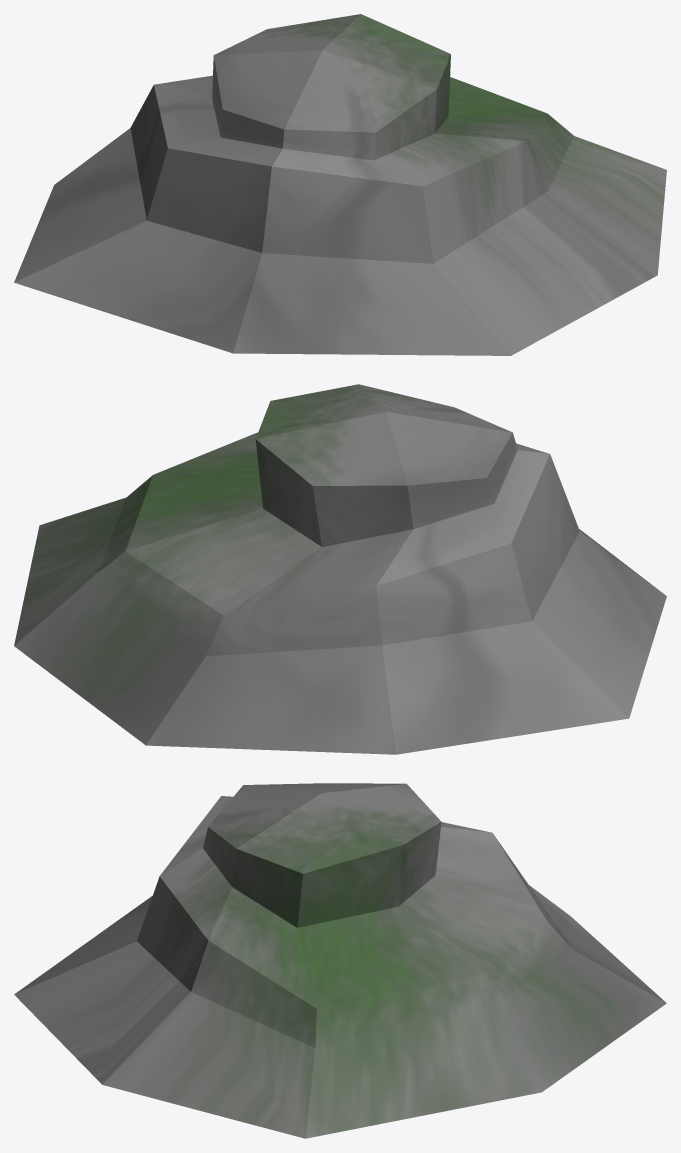
File: mossed-stone-006-51.glb
The picture shows the model from 3 angles, top to bottom: view 1: azimuth 30°, elevation 25°; view 2: azimuth 150°, elevation 25°; view 3: azimuth 270°, elevation 25°; orthographic projection. The views are drawn at different scales.
Visible parts, largest first — view 1: mossed_stone.006_51; view 2: mossed_stone.006_51; view 3: mossed_stone.006_51.
Boxes of the visible parts, left/top/right/bottom form: mossed_stone.006_51: left=14, top=14, right=666, bottom=355; mossed_stone.006_51: left=14, top=384, right=666, bottom=754; mossed_stone.006_51: left=14, top=783, right=666, bottom=1138.
Size of the model in its own units: 11.26 by 3.48 by 10.95.
Materials: 1 (1 with a texture image).
